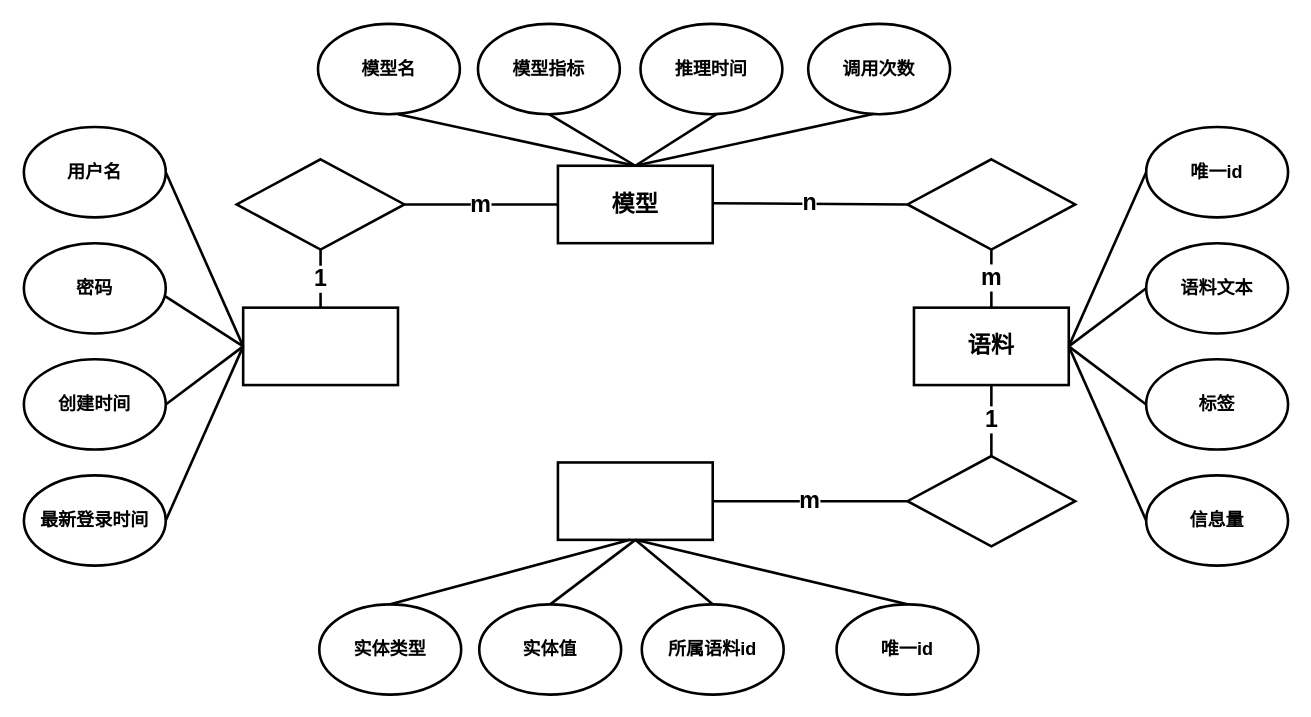
The diagram is 1311 pixels wide and 717 high, and some of its shapes have lost their labels. The centre of each missing label's shape, as x and y in pixels:
实体: point 634,501
用户: point 320,346
类属: point 991,500
调用: point 320,203
预测: point 991,203
